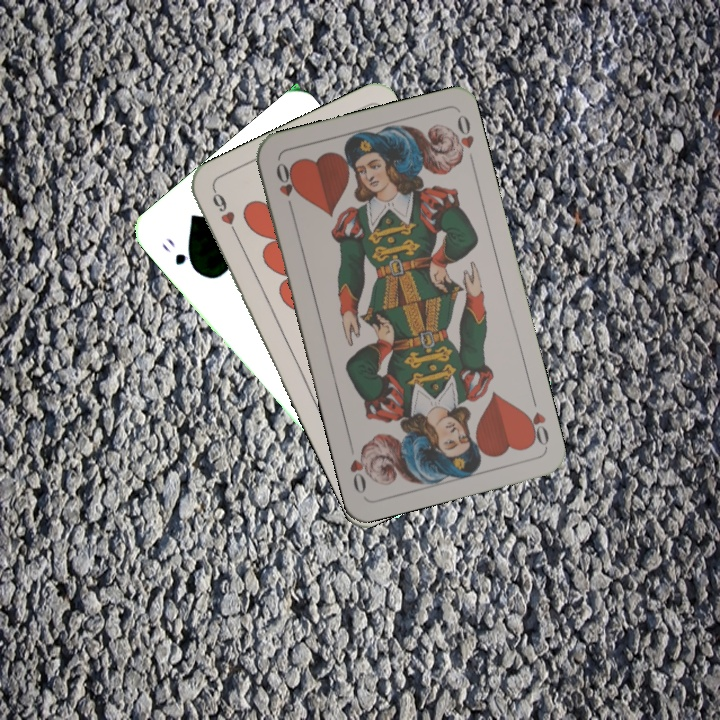GO: (158, 234, 201, 276)
H9: (208, 185, 242, 241)
HO: (520, 391, 552, 449), (272, 158, 300, 215)
